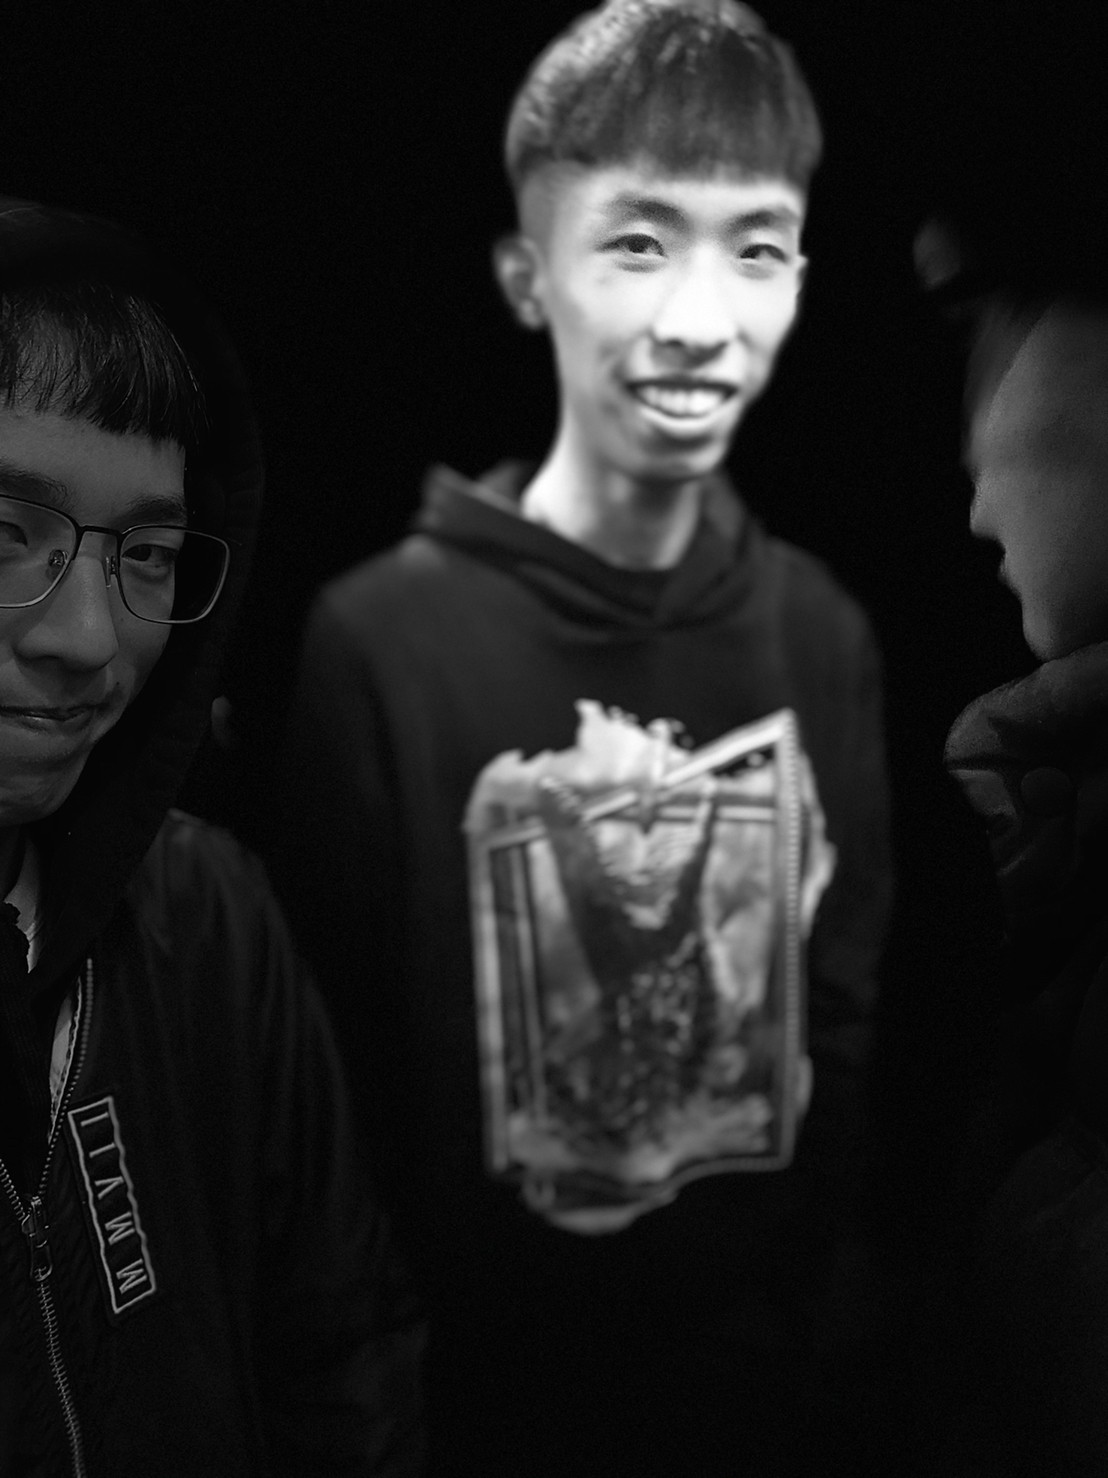people: (397, 4, 874, 1397), (2, 257, 226, 1407)
